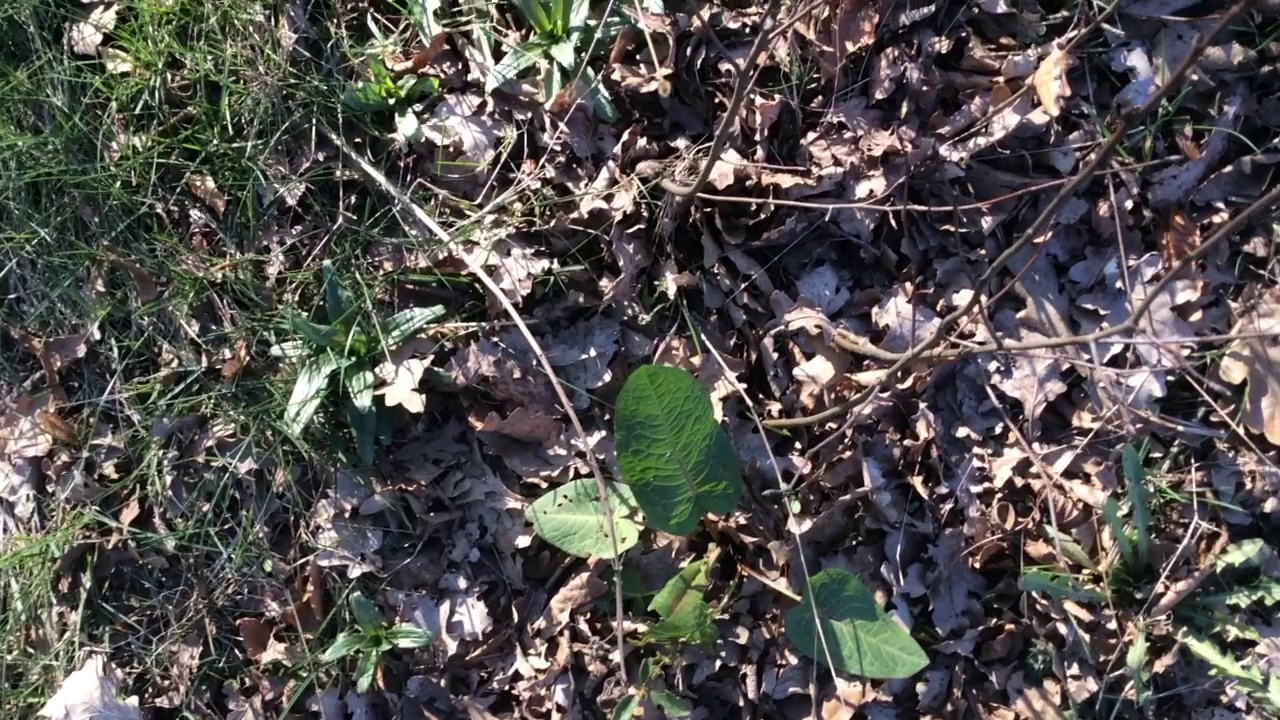rumex: (521, 365, 930, 718)
